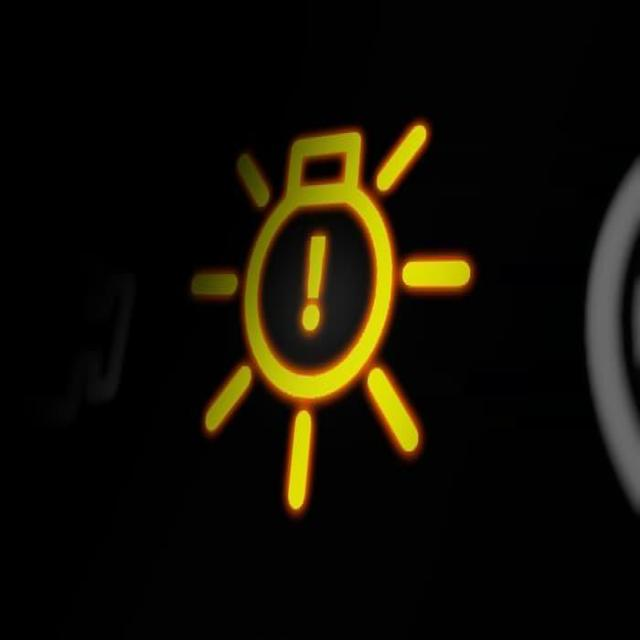kontrolka: (168, 106, 492, 526)
